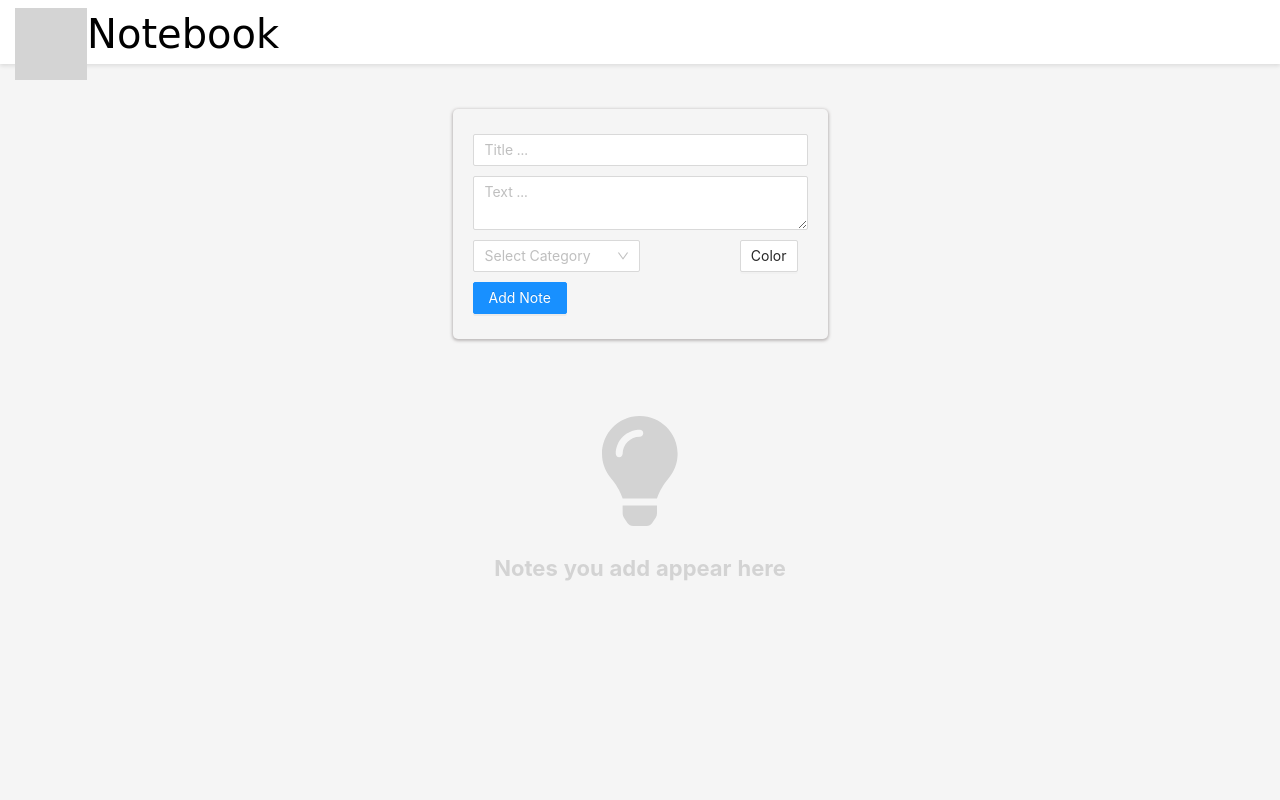
Scenario: App › should add a new note
Press the mouse on the element showing "Select Category" at coordinates (556, 256), box x1=472 y1=240 x2=640 y2=272
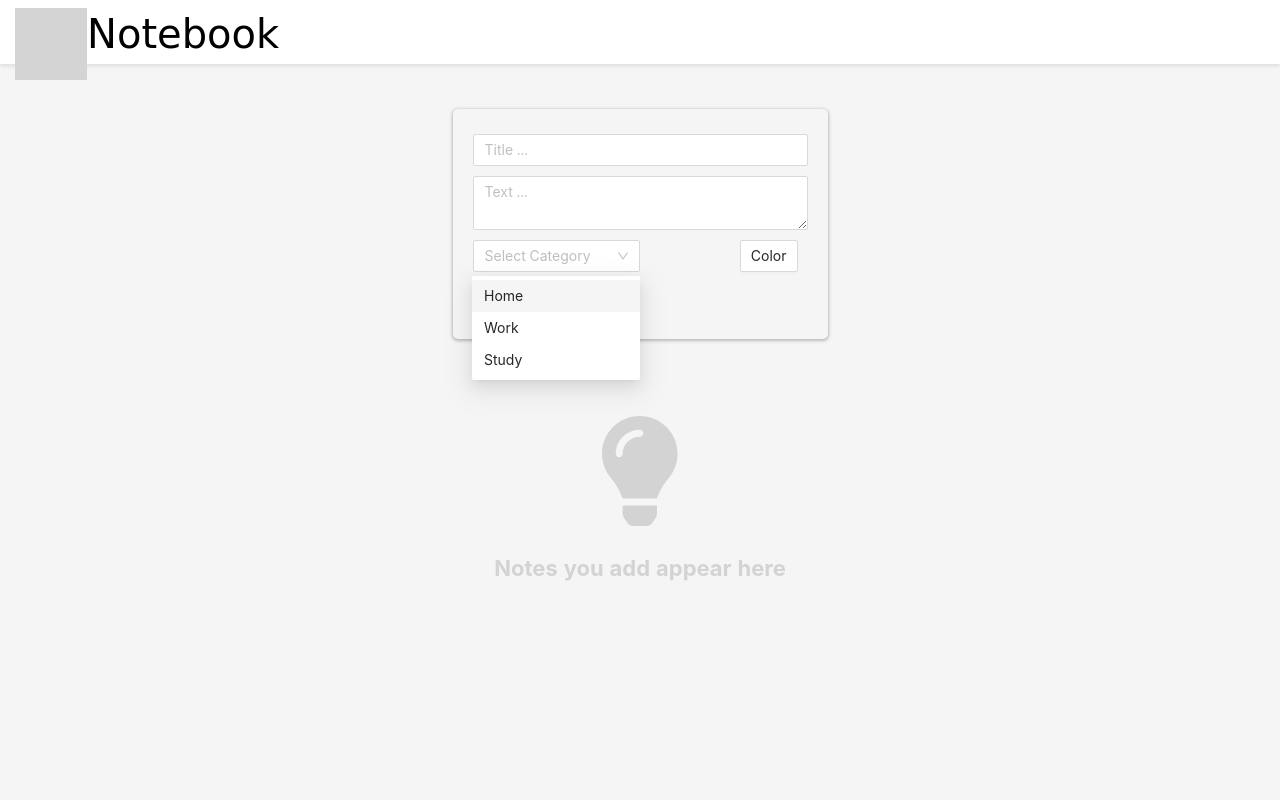
Now the element titled "Home" is shown
Click the element titled "Home" at coordinates (556, 296), box x1=472 y1=280 x2=640 y2=312
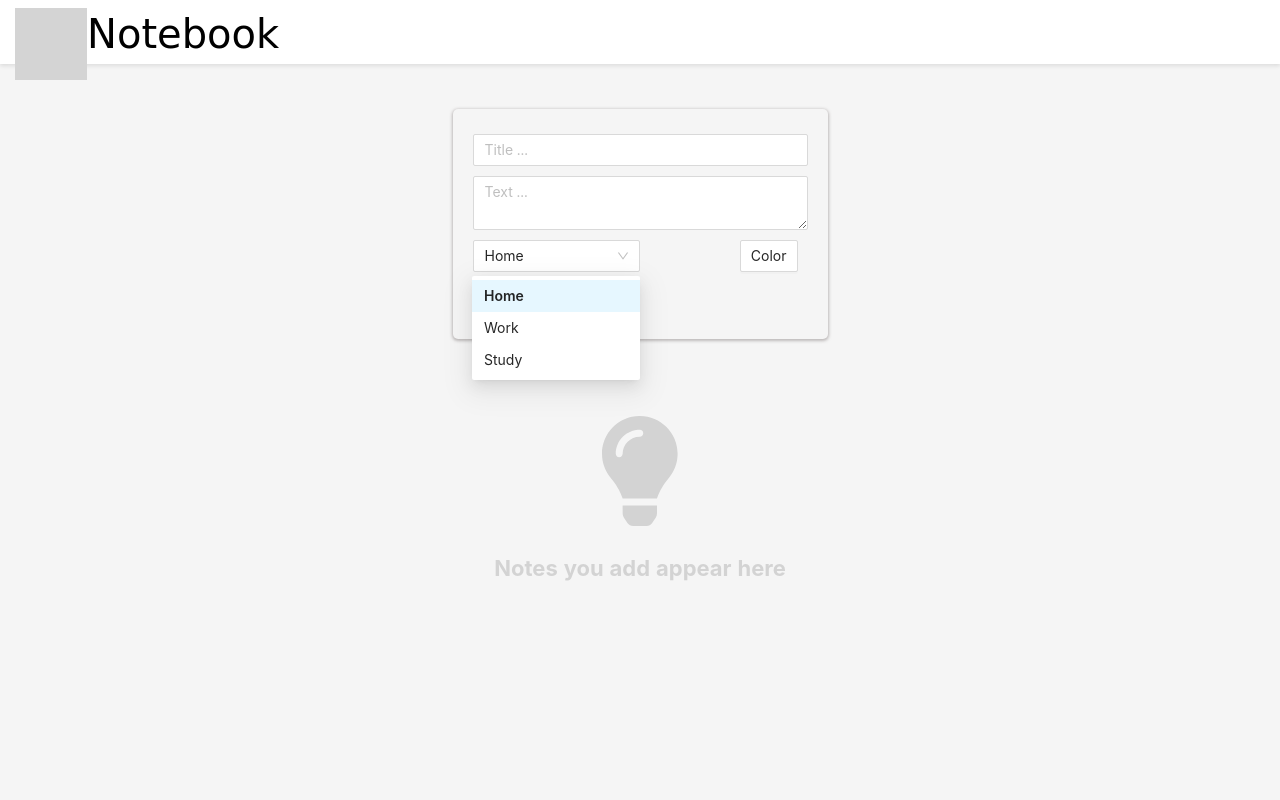
Type "lorem ipsum" into the field with placeholder "Title ..." at coordinates (640, 150), box x1=472 y1=134 x2=808 y2=166
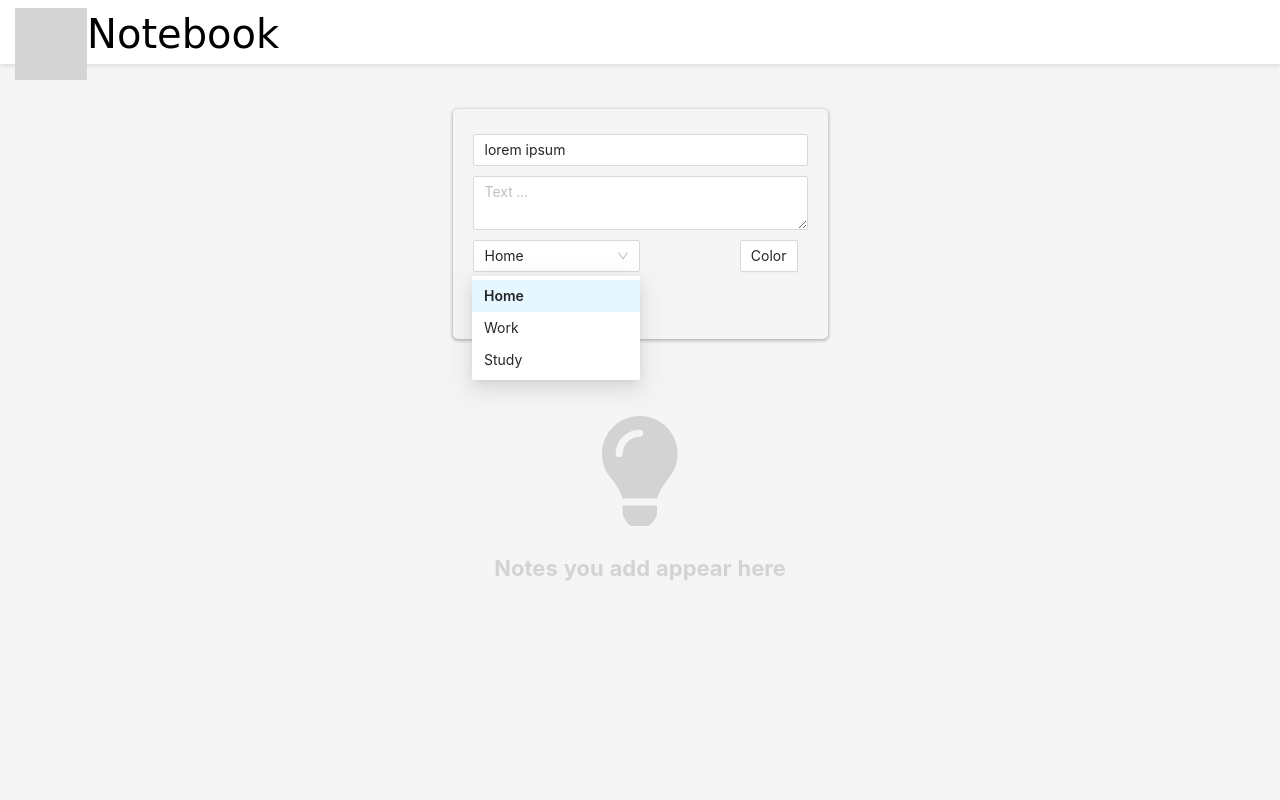
Type "lorem ipsum lorem ipsum lorem ipsum lorem ipsum lorem ipsum" into the text box with placeholder "Text ..." at coordinates (640, 203), box x1=472 y1=176 x2=808 y2=230
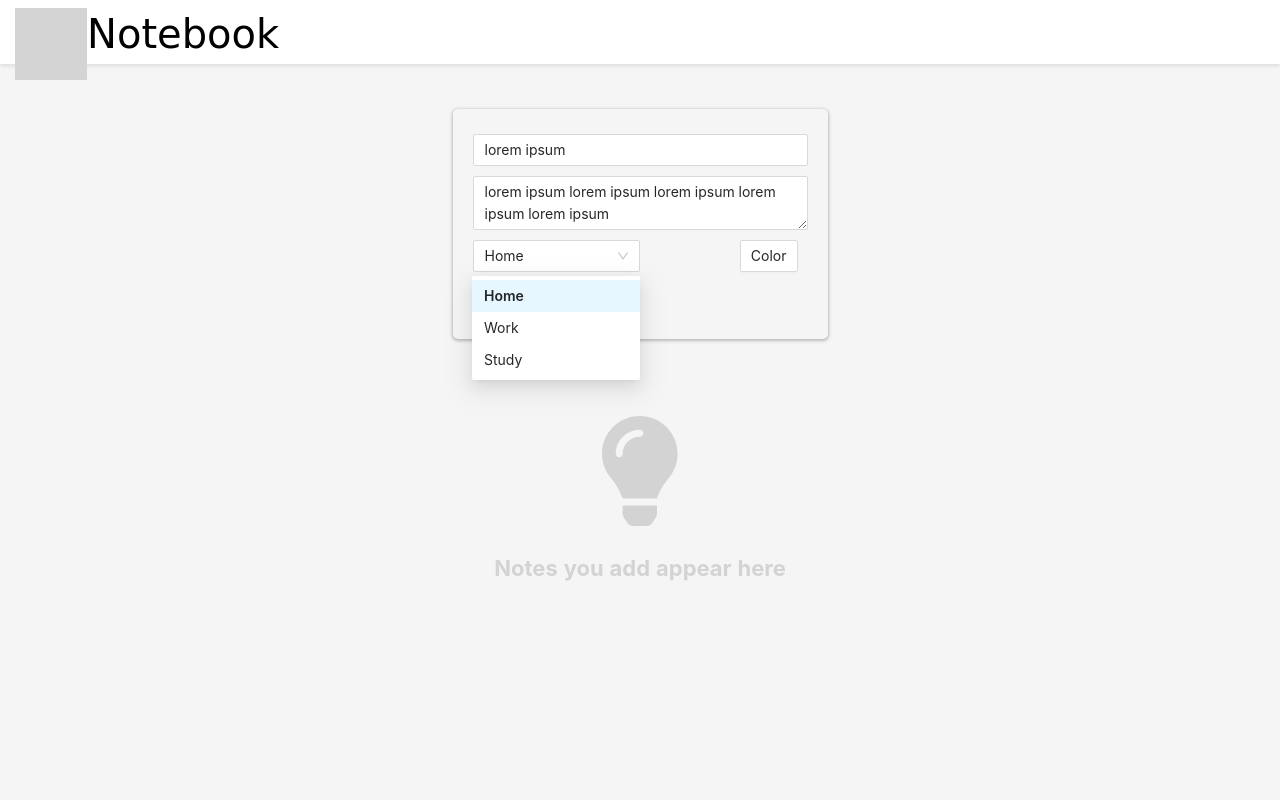
Click the button "Add Note" at coordinates (520, 298), box x1=472 y1=282 x2=567 y2=314
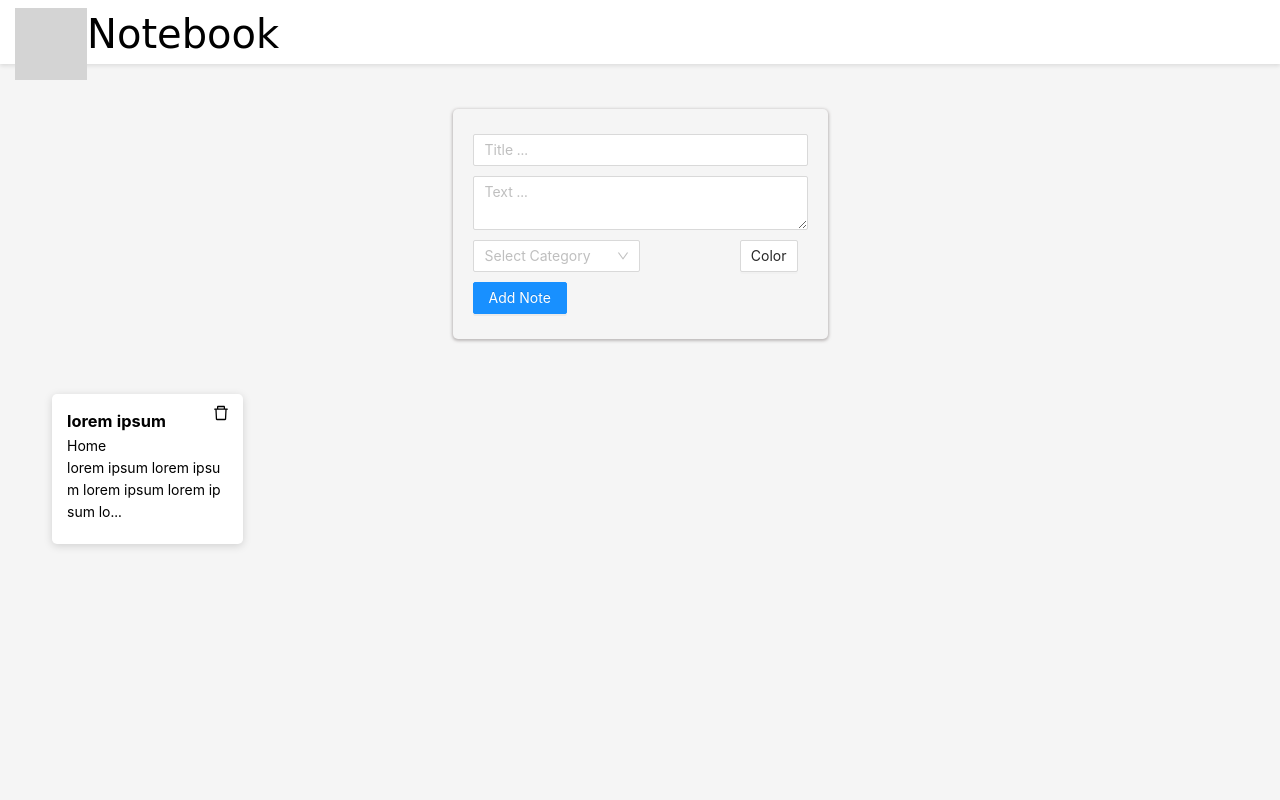
Now the element with test id "newNote" is shown, box x1=42 y1=394 x2=233 y2=544
Now the element with test id "newNote" shows "lorem", box x1=67 y1=411 x2=166 y2=431
